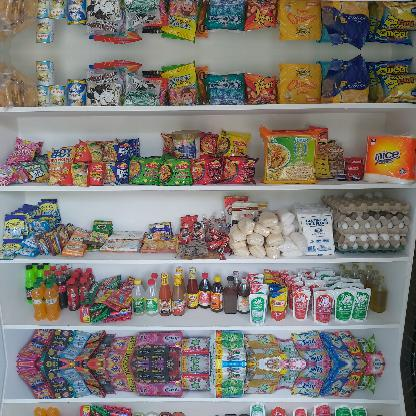Lady-s-Choice: (172, 130, 200, 160)
